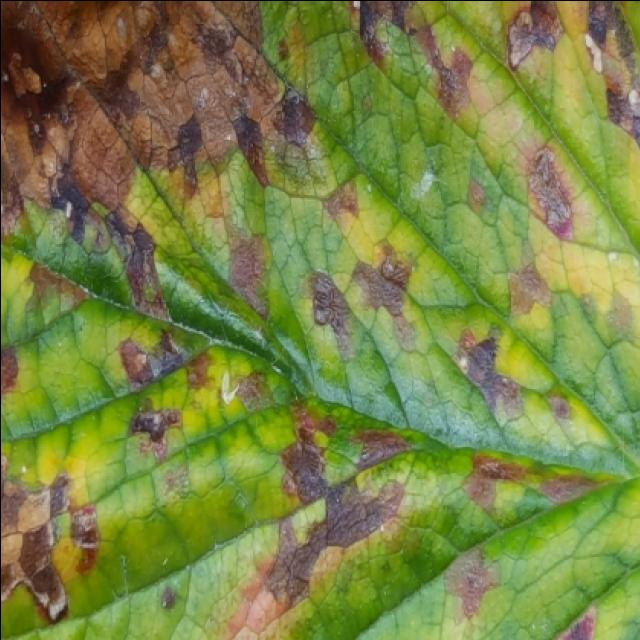Angular Leafspot: (2, 2, 640, 640)
